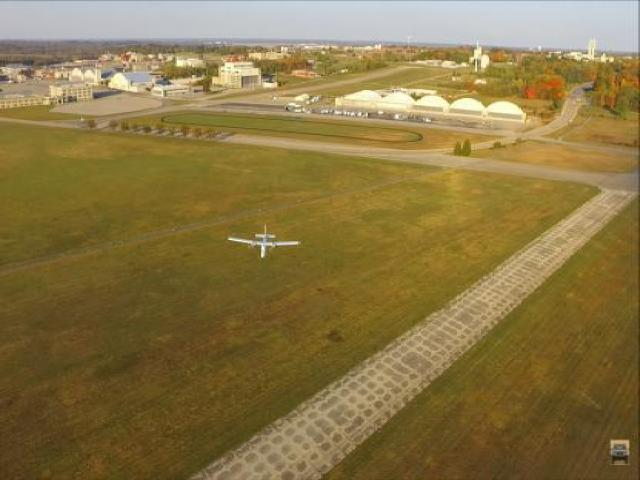uav: (226, 224, 302, 263)
